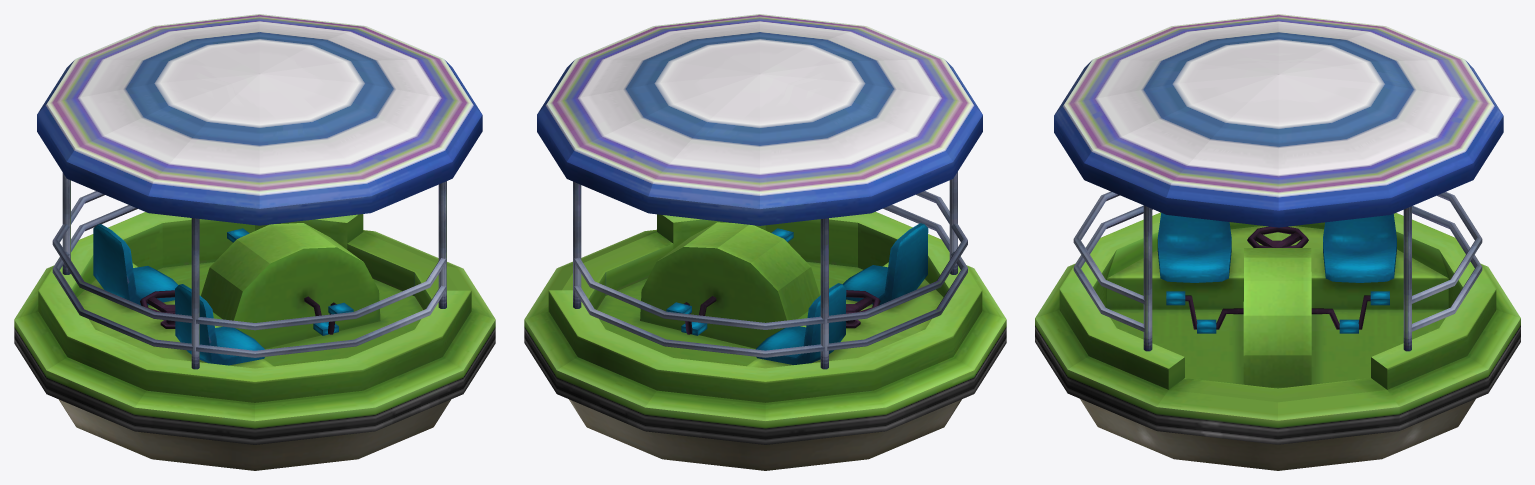
Rendered from furni_0201020.FBX.
3 views of the same model, side by side, from view 1: azimuth 30°, elevation 25°; view 2: azimuth 150°, elevation 25°; view 3: azimuth 270°, elevation 25° (orthographic).
Parts seen in each view (by area): view 1: furni_0201020; view 2: furni_0201020; view 3: furni_0201020.
Boxes of the visible parts, bbox=[...] form: furni_0201020: bbox=[14, 14, 495, 470]; furni_0201020: bbox=[524, 14, 1006, 470]; furni_0201020: bbox=[1035, 14, 1520, 470].
Size of the model in its own units: 463 by 327 by 463.
Materials: 1 (1 with a texture image).
